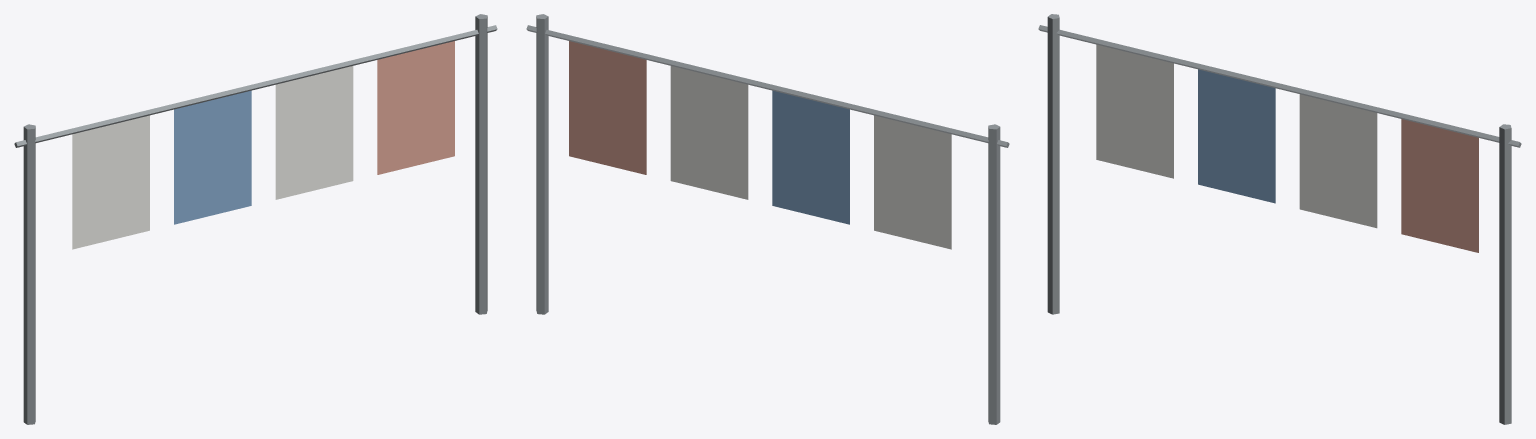
The model's file is laundry.glb.
The picture shows the model from 3 angles, left to right: view 1: azimuth 30°, elevation 25°; view 2: azimuth 150°, elevation 25°; view 3: azimuth 330°, elevation 25°; orthographic projection.
Parts seen in each view (by area): view 1: laundry; view 2: laundry; view 3: laundry.
Part boxes in pixels (x1,y1,x2,y2): laundry: (14, 14, 497, 424); laundry: (526, 14, 1009, 424); laundry: (1038, 14, 1521, 424).
Size of the model in its own units: 3.4 by 2 by 0.0761.
